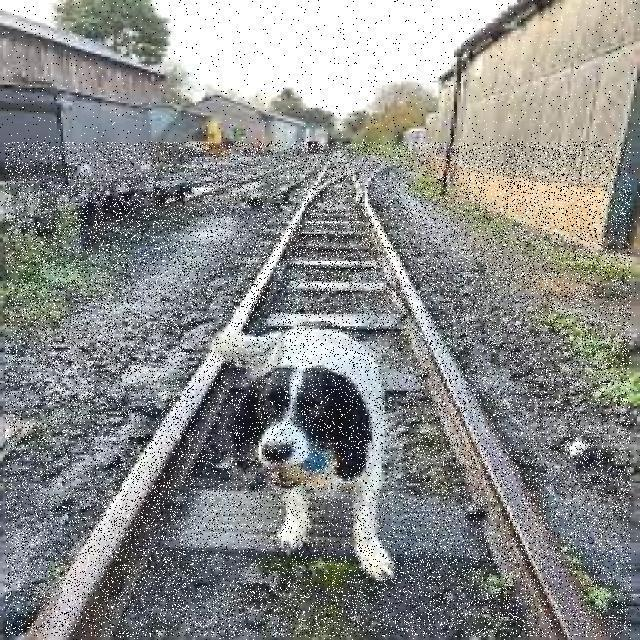danger: (195, 315, 407, 580)
rail: (6, 142, 631, 637)
